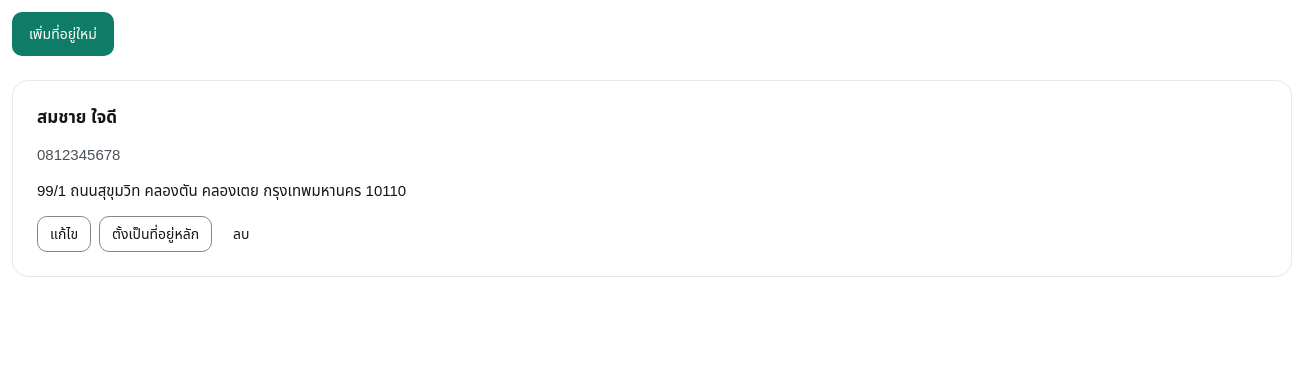
Test case: AddressBook › sets the default with only isDefault in the body
Click the button "ตั้งเป็นที่อยู่หลัก" at (156, 234), box [99, 216, 212, 252]
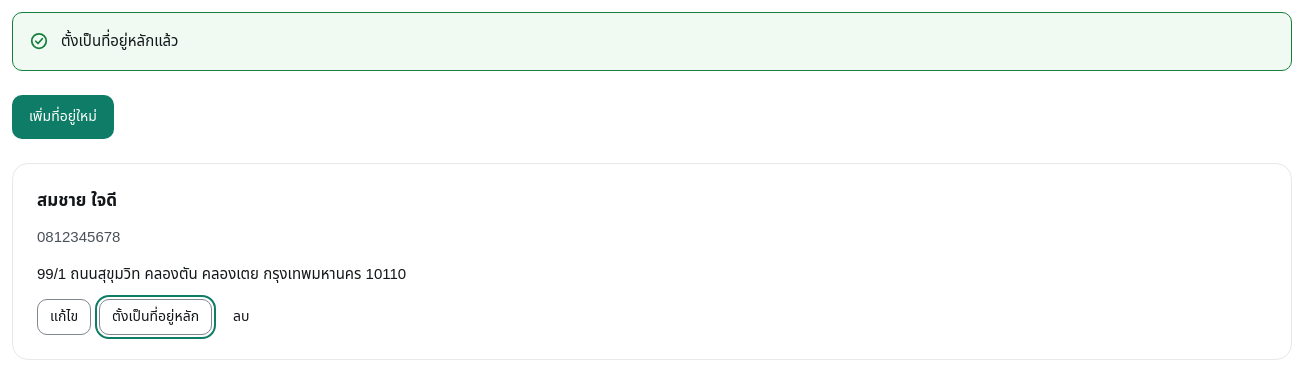
Expected: the text "ตั้งเป็นที่อยู่หลักแล้ว" is shown, [61, 32, 178, 49]
